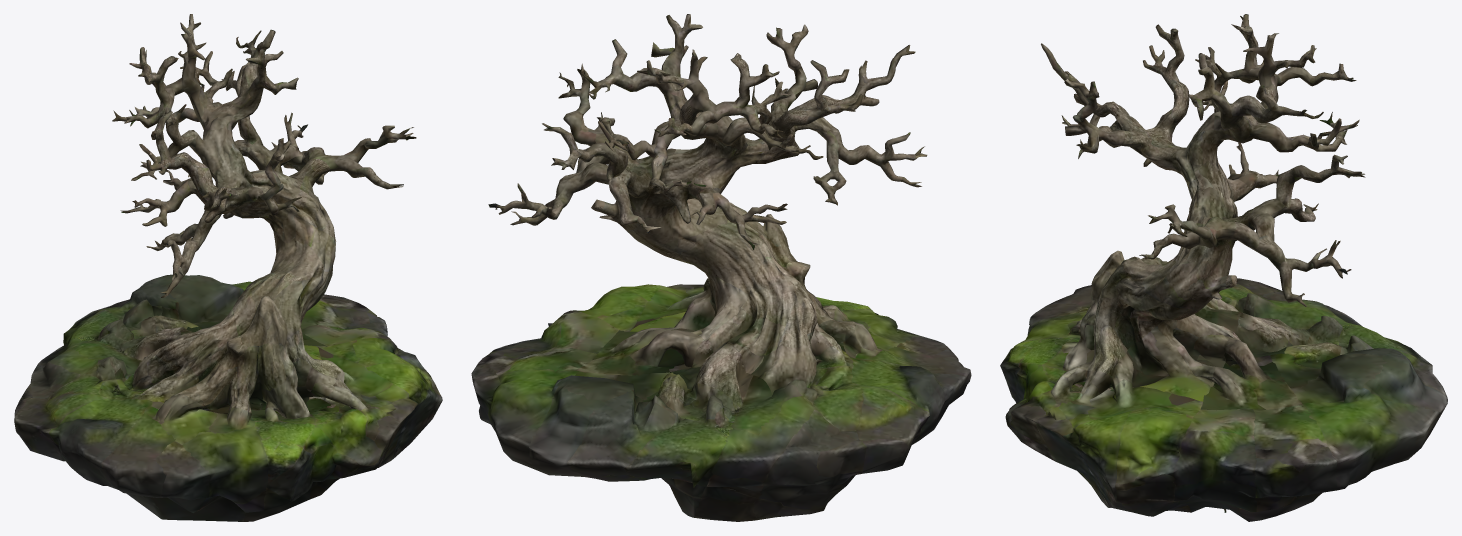
Rendered from tree.glb.
3 views of the same model, side by side, from view 1: azimuth 30°, elevation 25°; view 2: azimuth 150°, elevation 25°; view 3: azimuth 270°, elevation 25° (orthographic). The views are drawn at different scales.
Visible parts, largest first — view 1: tmp7zm9xckxobj; view 2: tmp7zm9xckxobj; view 3: tmp7zm9xckxobj.
Part boxes in pixels (bbox=[...]): tmp7zm9xckxobj: bbox=[14, 14, 442, 521]; tmp7zm9xckxobj: bbox=[471, 14, 971, 521]; tmp7zm9xckxobj: bbox=[1000, 14, 1447, 521].
Bounding box in the file's own units: 0.9199 × 0.9981 × 0.9079.
1 material, 1 textured.
